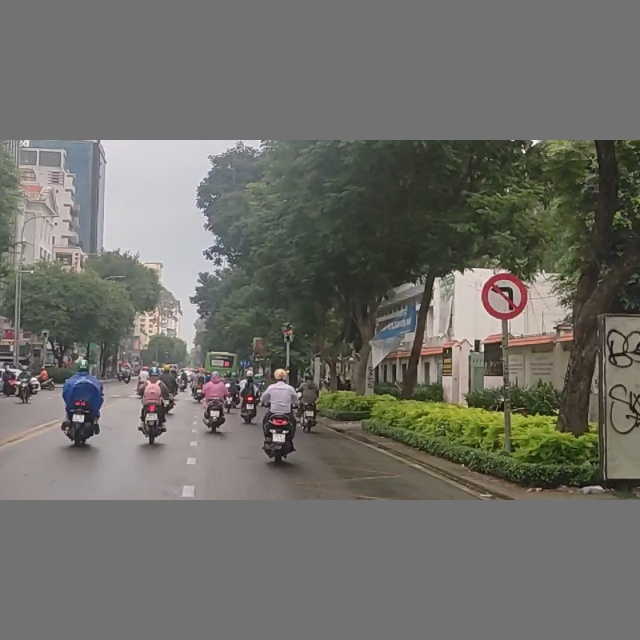P.123a: (481, 274, 531, 321)
